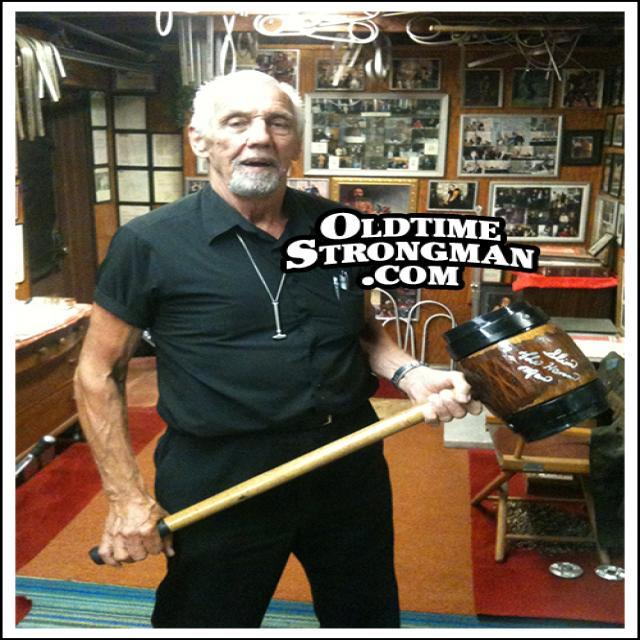hammer: (82, 294, 619, 576)
